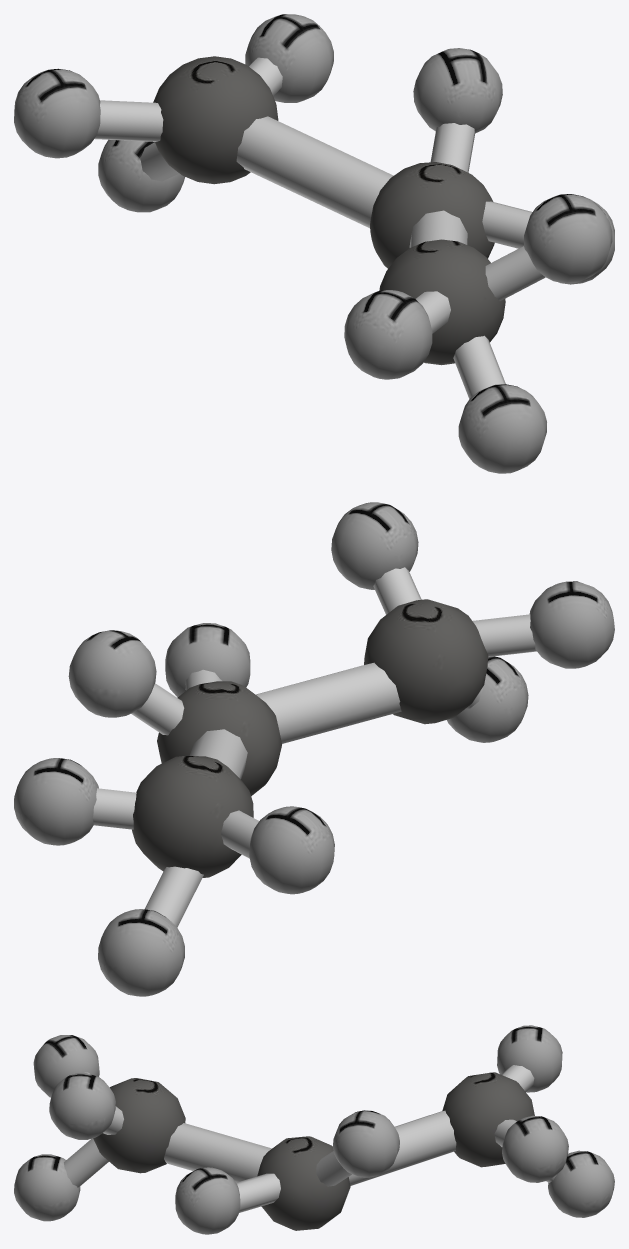
Rendered from PROPANE.fbx.
3 views of the same model, one above another, from view 1: azimuth 30°, elevation 25°; view 2: azimuth 150°, elevation 25°; view 3: azimuth 270°, elevation 25° (orthographic). The views are drawn at different scales.
Parts seen in each view (by area): view 1: pCylinder8; view 2: pCylinder8; view 3: pCylinder8.
Boxes of the visible parts, x1,y1,x2,y2 form: pCylinder8: (14,14,614,473); pCylinder8: (14,502,614,996); pCylinder8: (14,1025,614,1234).
Bounding box in the file's own units: 15.21 × 9 × 28.07.
Materials: 2 (1 with a texture image).
